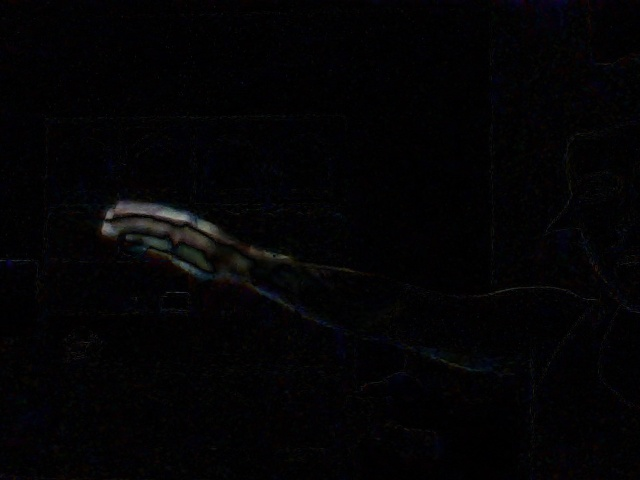hand_pa: (98, 184, 234, 289)
